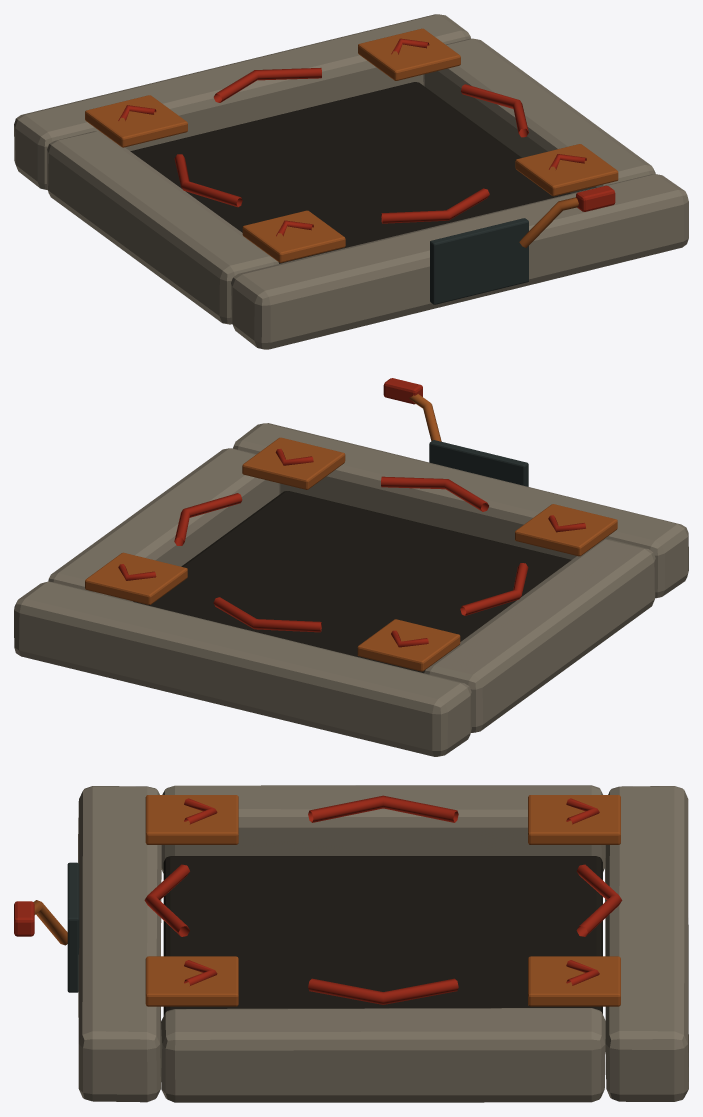
File: spike_trap_base.glb
3 views of the same model, one above another, from view 1: azimuth 30°, elevation 25°; view 2: azimuth 150°, elevation 25°; view 3: azimuth 270°, elevation 25° (orthographic). The views are drawn at different scales.
Parts seen in each view (by area): view 1: SpikeTrapMechanismPit, SpikeTrapKerbSouth, SpikeTrapKerbWest, SpikeTrapKerbNorth, SpikeTrapKerbEast, SpikeTrapInspectionHatch, SpikeTrapPressurePlate.001, SpikeTrapPressurePlate, SpikeTrapPressurePlate.003, SpikeTrapPressurePlate.002, SpikeTrapWarningArc.003, SpikeTrapWarningArc.001 (+4 smaller); view 2: SpikeTrapMechanismPit, SpikeTrapKerbNorth, SpikeTrapKerbWest, SpikeTrapKerbSouth, SpikeTrapKerbEast, SpikeTrapPressurePlate.003, SpikeTrapPressurePlate.001, SpikeTrapPressurePlate, SpikeTrapPressurePlate.002, SpikeTrapInspectionHatch, SpikeTrapWarningArc.001, SpikeTrapWarningArc.003 (+3 smaller); view 3: SpikeTrapMechanismPit, SpikeTrapKerbEast, SpikeTrapKerbNorth, SpikeTrapKerbSouth, SpikeTrapKerbWest, SpikeTrapPressurePlate.001, SpikeTrapPressurePlate.002, SpikeTrapPressurePlate, SpikeTrapPressurePlate.003, SpikeTrapWarningArc.002, SpikeTrapWarningArc, SpikeTrapInspectionHatch (+4 smaller).
Part boxes in pixels (<box>): SpikeTrapMechanismPit: <box>130,82,570,263</box>; SpikeTrapKerbSouth: <box>231,174,688,349</box>; SpikeTrapKerbWest: <box>46,131,278,324</box>; SpikeTrapKerbNorth: <box>14,14,470,189</box>; SpikeTrapKerbEast: <box>423,38,655,193</box>; SpikeTrapInspectionHatch: <box>430,218,528,304</box>; SpikeTrapPressurePlate.001: <box>515,144,618,196</box>; SpikeTrapPressurePlate: <box>242,210,345,262</box>; SpikeTrapPressurePlate.003: <box>85,95,187,147</box>; SpikeTrapPressurePlate.002: <box>358,28,460,80</box>; SpikeTrapWarningArc.003: <box>381,188,489,223</box>; SpikeTrapWarningArc.001: <box>213,68,321,102</box>; SpikeTrapMechanismPit: <box>133,491,571,673</box>; SpikeTrapKerbNorth: <box>14,581,471,756</box>; SpikeTrapKerbWest: <box>424,539,655,732</box>; SpikeTrapKerbSouth: <box>232,423,688,598</box>; SpikeTrapKerbEast: <box>48,448,280,601</box>; SpikeTrapPressurePlate.003: <box>357,619,460,671</box>; SpikeTrapPressurePlate.001: <box>242,437,345,489</box>; SpikeTrapPressurePlate: <box>515,504,617,556</box>; SpikeTrapPressurePlate.002: <box>85,552,187,604</box>; SpikeTrapInspectionHatch: <box>429,440,528,486</box>; SpikeTrapWarningArc.001: <box>213,597,321,632</box>; SpikeTrapWarningArc.003: <box>381,476,488,511</box>; SpikeTrapMechanismPit: <box>163,856,602,1015</box>; SpikeTrapKerbEast: <box>160,1008,605,1102</box>; SpikeTrapKerbNorth: <box>605,786,688,1101</box>; SpikeTrapKerbSouth: <box>78,786,161,1102</box>; SpikeTrapKerbWest: <box>161,785,605,873</box>; SpikeTrapPressurePlate.001: <box>145,956,238,1006</box>; SpikeTrapPressurePlate.002: <box>528,956,620,1006</box>; SpikeTrapPressurePlate: <box>145,795,238,844</box>; SpikeTrapPressurePlate.003: <box>528,795,620,844</box>; SpikeTrapWarningArc.002: <box>308,795,458,822</box>; SpikeTrapWarningArc: <box>308,978,458,1004</box>; SpikeTrapInspectionHatch: <box>67,862,79,992</box>.
Size of the model in its own units: 2.36 by 0.58 by 2.61.
